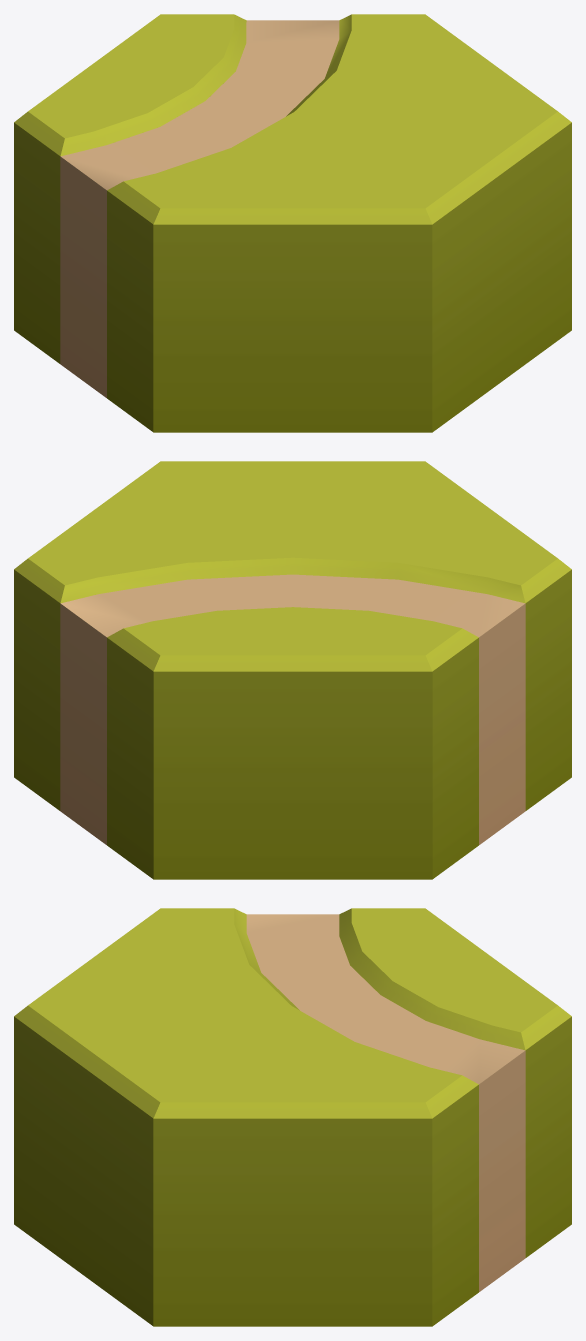
File: kaykit-medieval-hexagon-pack-hex-road-b.glb
The picture shows the model from 3 angles, top to bottom: view 1: azimuth 30°, elevation 25°; view 2: azimuth 150°, elevation 25°; view 3: azimuth 270°, elevation 25°; orthographic projection.
Visible parts, largest first — view 1: hex_road_B; view 2: hex_road_B; view 3: hex_road_B.
Boxes of the visible parts, bbox=[...] form: hex_road_B: bbox=[14, 14, 571, 432]; hex_road_B: bbox=[14, 461, 571, 879]; hex_road_B: bbox=[14, 908, 571, 1326].
Size of the model in its own units: 2 by 1 by 2.31.
Materials: 1 (1 with a texture image).
